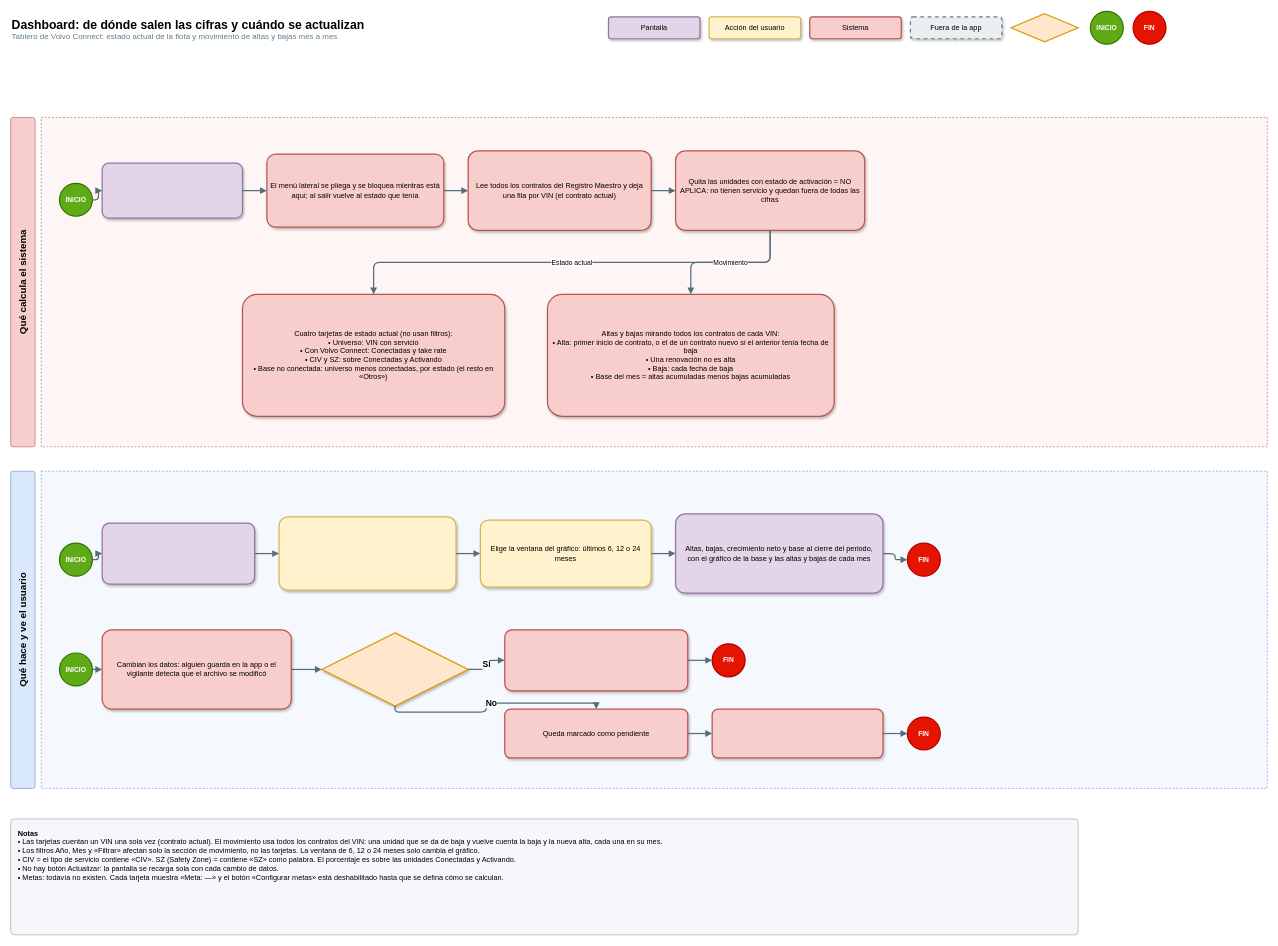
The diagram is 1278 pixels wide and 946 high, and some of its shapes have lost their labels. Here are the shapes that lost their labels. From the top down, the centre of each, then its label:
At (1044,27): "Decisión".
At (172,191): "Entra a Dashboard desde el menú lateral".
At (179,554): "Ve las cuatro tarjetas y la sección de movimiento".
At (368,554): "Elige Año y Mes (o «Todos los meses») y presiona «Filtrar»".
At (395,670): "¿Dashboard visible?".
At (596,660): "Recalcula tarjetas y movimiento al momento y conserva el año elegido".
At (798,734): "Al volver a entrar recalcula todo".
